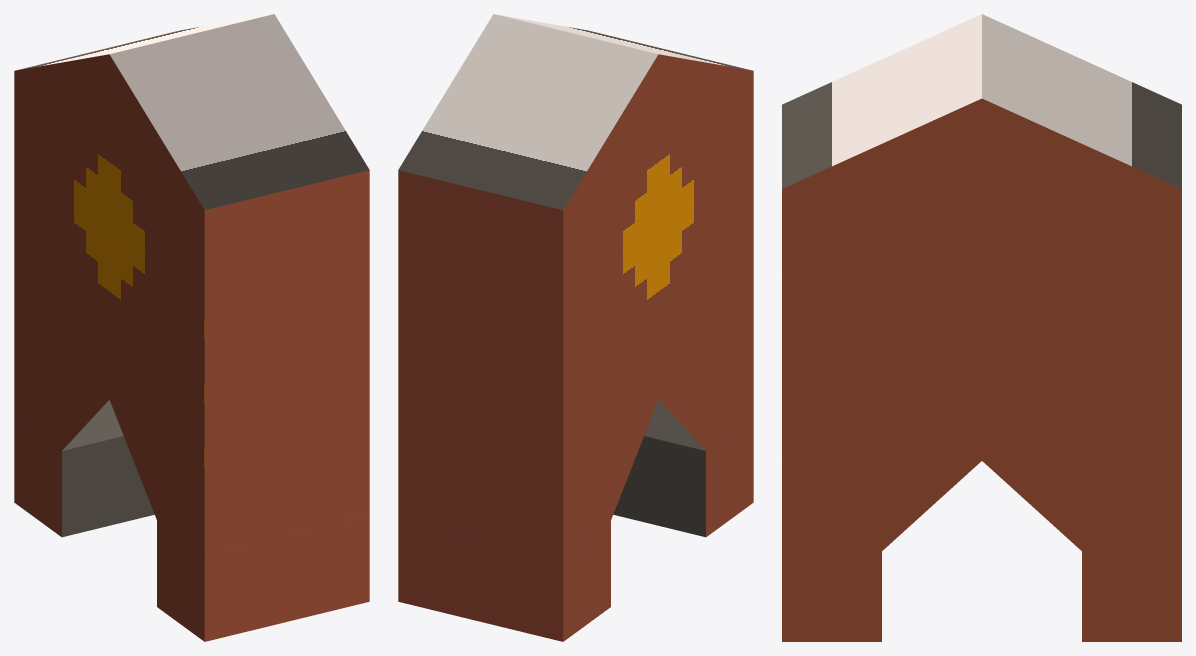
File: radio.gltf
The picture shows the model from 3 angles, left to right: view 1: azimuth 30°, elevation 25°; view 2: azimuth 150°, elevation 25°; view 3: azimuth 270°, elevation 25°; orthographic projection. The views are drawn at different scales.
Parts seen in each view (by area): view 1: radio; view 2: radio; view 3: radio.
Boxes of the visible parts, box(x1,y1,x2,y2) form: radio: box(14, 14, 369, 641); radio: box(398, 14, 753, 641); radio: box(782, 14, 1181, 641).
Bounding box in the file's own units: 0.5 × 1.5 × 1.
1 material, 1 textured.
